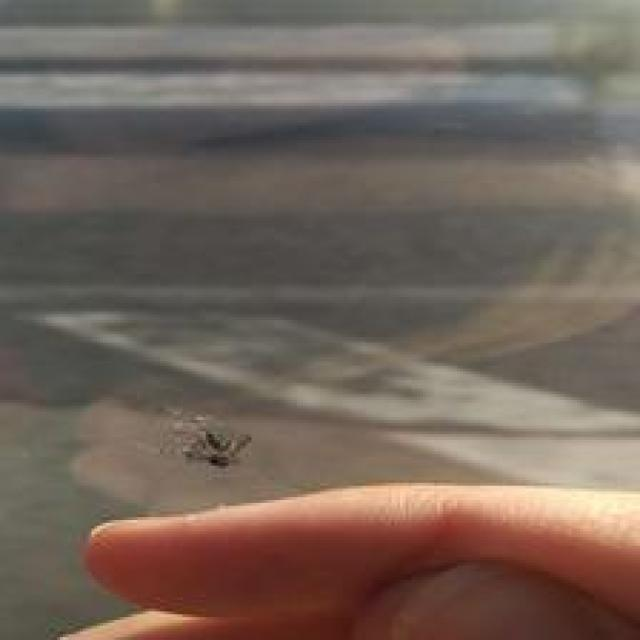Aedes albopictus: (180, 427, 251, 470)
